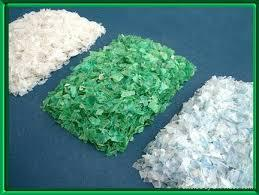Plastic shavings: (45, 27, 205, 153), (138, 51, 255, 192), (4, 8, 116, 99)
